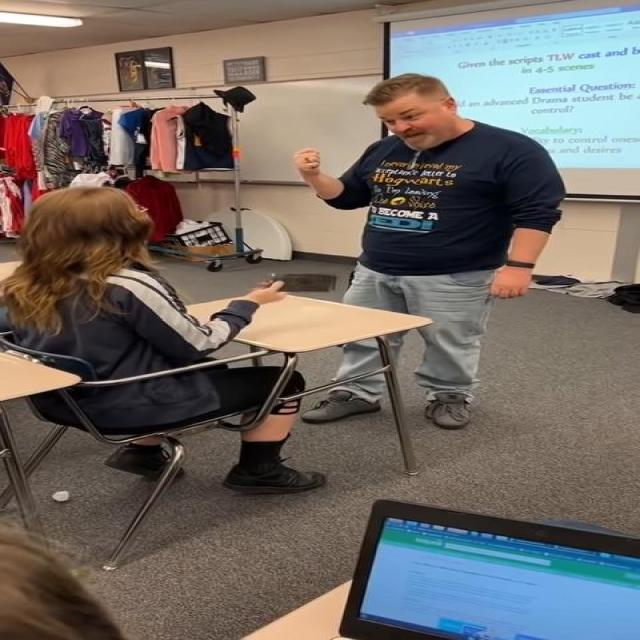NO-Mask: (372, 84, 462, 155)
